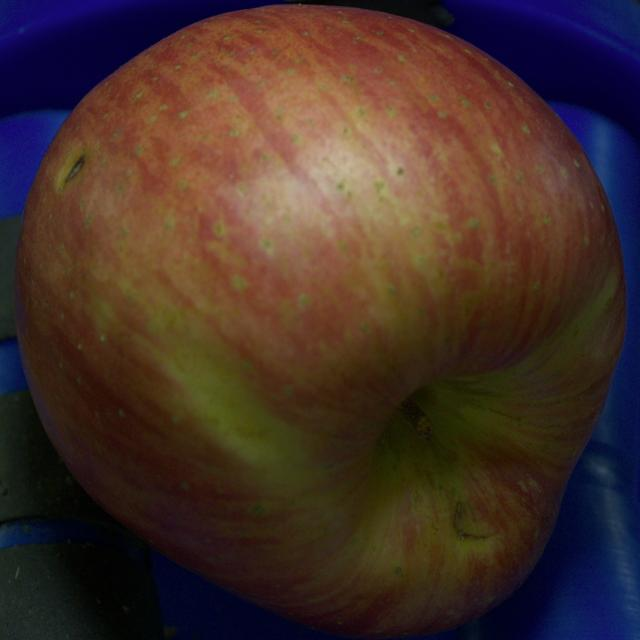apple: (14, 6, 626, 638)
scratch: (454, 503, 486, 539), (64, 154, 84, 184)
